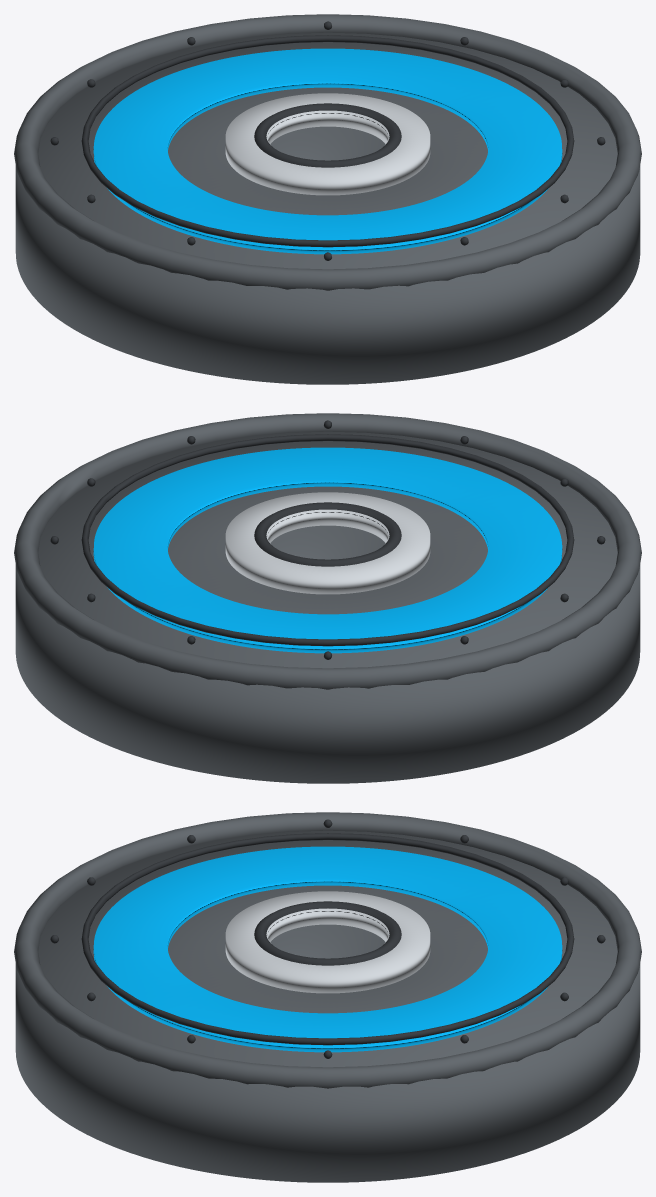
File: Gewichtsscheibe_3D.glb
3 renders of one model, top to bottom at view 1: azimuth 30°, elevation 25°; view 2: azimuth 150°, elevation 25°; view 3: azimuth 270°, elevation 25°, orthographic.
Visible parts, largest first — view 1: Gewichtsscheibe_3D__web_dark_graphite_weight_plate_rubber, Gewichtsscheibe_3D__web_bright_blue_rubber_inset_ring, Gewichtsscheibe_3D__web_dark_rubber_bevel_shadow, Gewichtsscheibe_3D__web_brushed_steel_central_sleeve; view 2: Gewichtsscheibe_3D__web_dark_graphite_weight_plate_rubber, Gewichtsscheibe_3D__web_bright_blue_rubber_inset_ring, Gewichtsscheibe_3D__web_dark_rubber_bevel_shadow, Gewichtsscheibe_3D__web_brushed_steel_central_sleeve; view 3: Gewichtsscheibe_3D__web_dark_graphite_weight_plate_rubber, Gewichtsscheibe_3D__web_bright_blue_rubber_inset_ring, Gewichtsscheibe_3D__web_dark_rubber_bevel_shadow, Gewichtsscheibe_3D__web_brushed_steel_central_sleeve.
Part boxes in pixels (box(x1,y1,x2,y2)): Gewichtsscheibe_3D__web_dark_graphite_weight_plate_rubber: box(14, 14, 641, 384); Gewichtsscheibe_3D__web_bright_blue_rubber_inset_ring: box(93, 48, 562, 254); Gewichtsscheibe_3D__web_dark_rubber_bevel_shadow: box(50, 21, 605, 260); Gewichtsscheibe_3D__web_brushed_steel_central_sleeve: box(225, 93, 430, 195); Gewichtsscheibe_3D__web_dark_graphite_weight_plate_rubber: box(14, 413, 641, 783); Gewichtsscheibe_3D__web_bright_blue_rubber_inset_ring: box(93, 447, 562, 653); Gewichtsscheibe_3D__web_dark_rubber_bevel_shadow: box(50, 420, 605, 659); Gewichtsscheibe_3D__web_brushed_steel_central_sleeve: box(225, 492, 430, 594); Gewichtsscheibe_3D__web_dark_graphite_weight_plate_rubber: box(14, 812, 641, 1182); Gewichtsscheibe_3D__web_bright_blue_rubber_inset_ring: box(93, 846, 562, 1052); Gewichtsscheibe_3D__web_dark_rubber_bevel_shadow: box(50, 819, 605, 1058); Gewichtsscheibe_3D__web_brushed_steel_central_sleeve: box(225, 891, 430, 993).
Bounding box in the file's own units: 0.724 × 0.1526 × 0.724.
